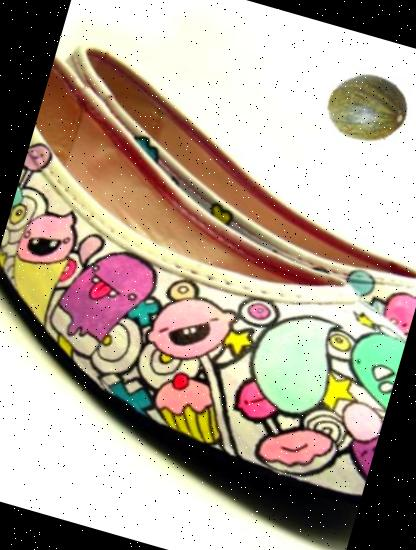Melon: (320, 61, 413, 154)
